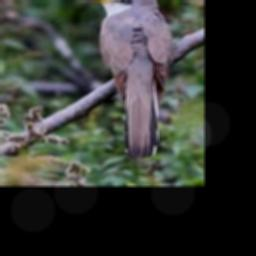Cuckoo: (82, 0, 173, 158)
